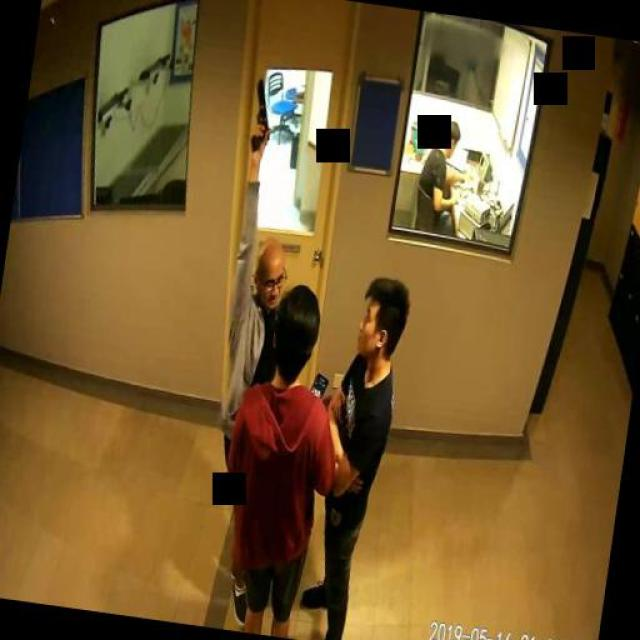gun: (248, 78, 278, 152)
